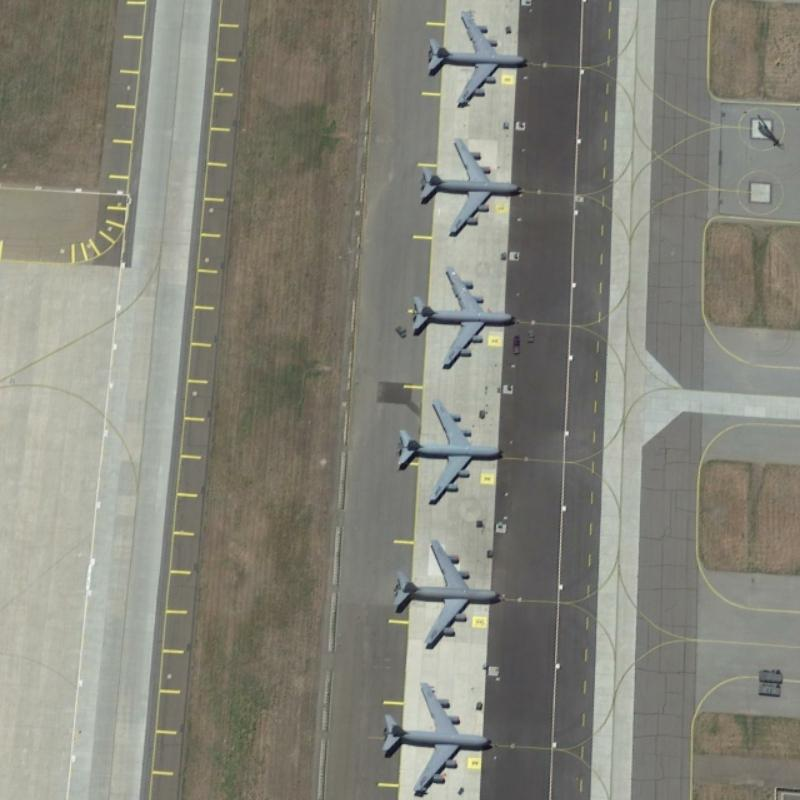A14: (382, 529, 511, 654), (374, 676, 501, 799), (395, 389, 509, 510), (406, 261, 527, 372), (412, 127, 523, 239), (418, 6, 534, 113)
